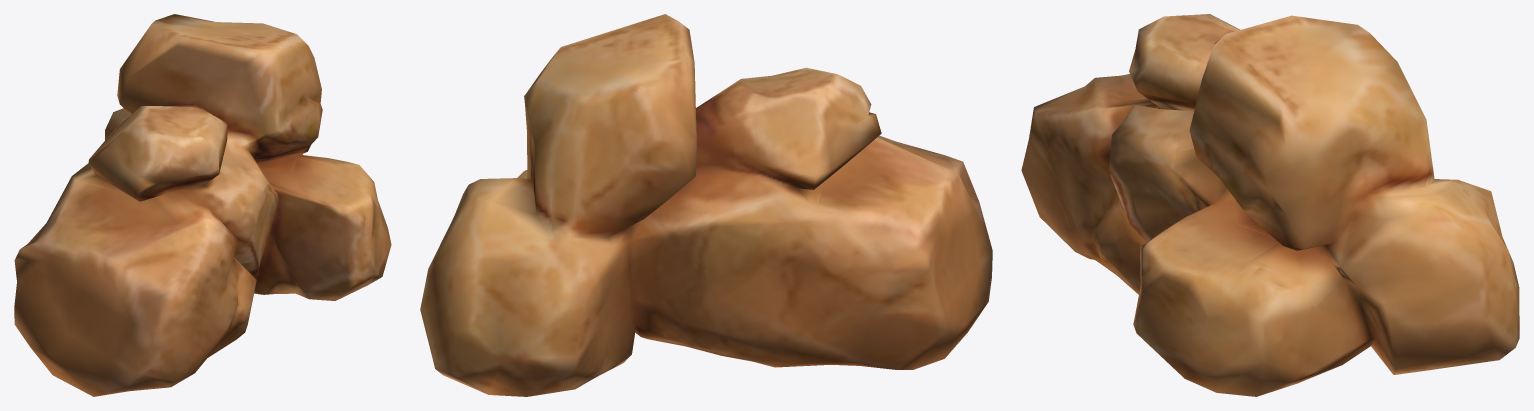
The model's file is Piedras_Apiladas_Medianas_2.glb.
3 views of the same model, side by side, from view 1: azimuth 30°, elevation 25°; view 2: azimuth 150°, elevation 25°; view 3: azimuth 270°, elevation 25° (orthographic). The views are drawn at different scales.
Parts seen in each view (by area): view 1: Piedras Apiladas Medianas 2; view 2: Piedras Apiladas Medianas 2; view 3: Piedras Apiladas Medianas 2.
Boxes of the visible parts, <box> form: Piedras Apiladas Medianas 2: <box>14,14,391,396</box>; Piedras Apiladas Medianas 2: <box>420,14,992,396</box>; Piedras Apiladas Medianas 2: <box>1021,14,1519,396</box>.
Size of the model in its own units: 0.1732 by 0.1158 by 0.1715.
Materials: 1 (1 with a texture image).
